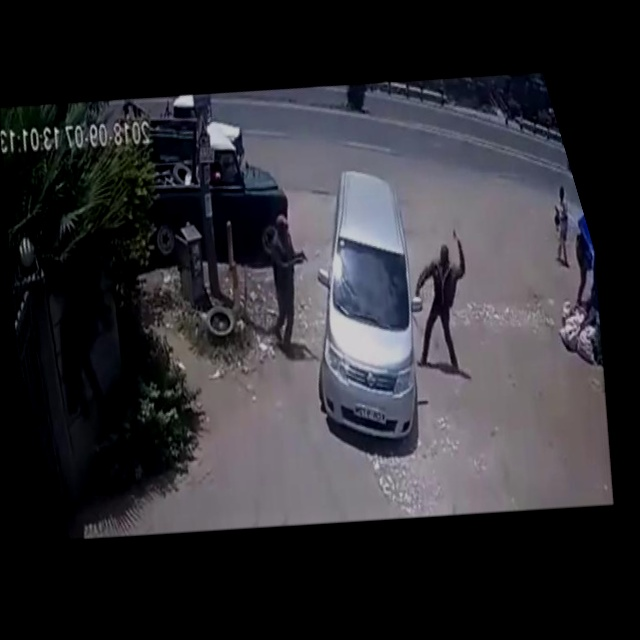gun: (445, 220, 468, 249), (296, 244, 313, 263)
